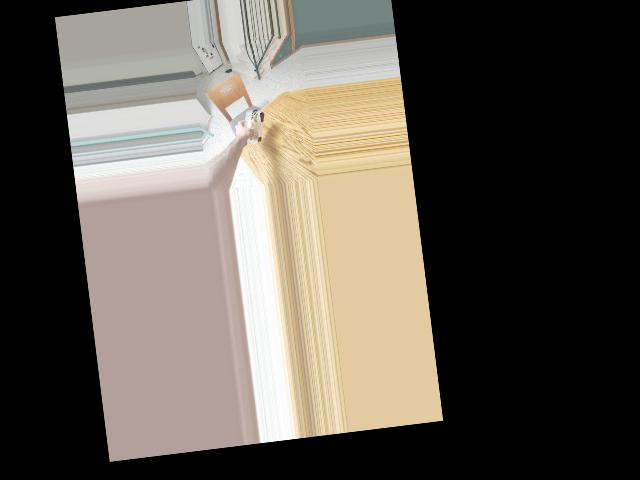cheese: (241, 109, 267, 145)
